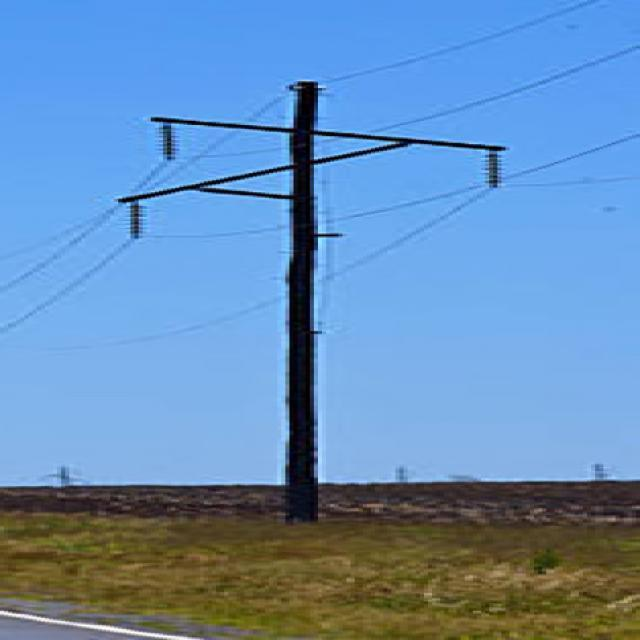pole: (87, 66, 543, 528)
